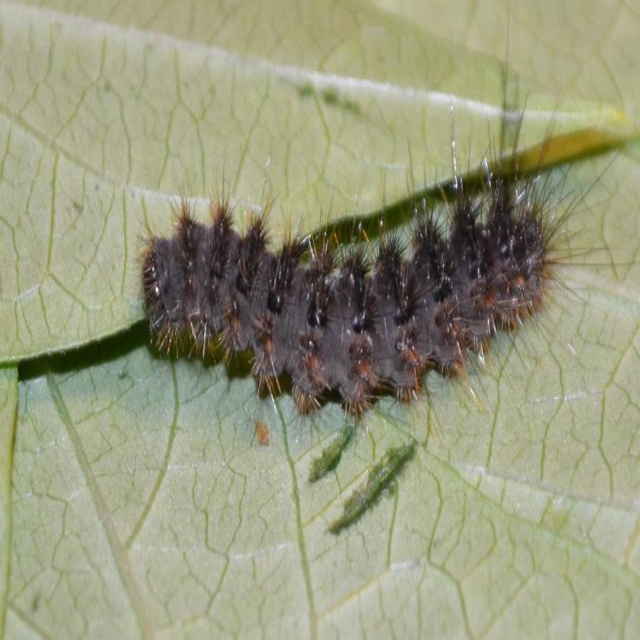Caterpillar: (130, 11, 639, 427)
